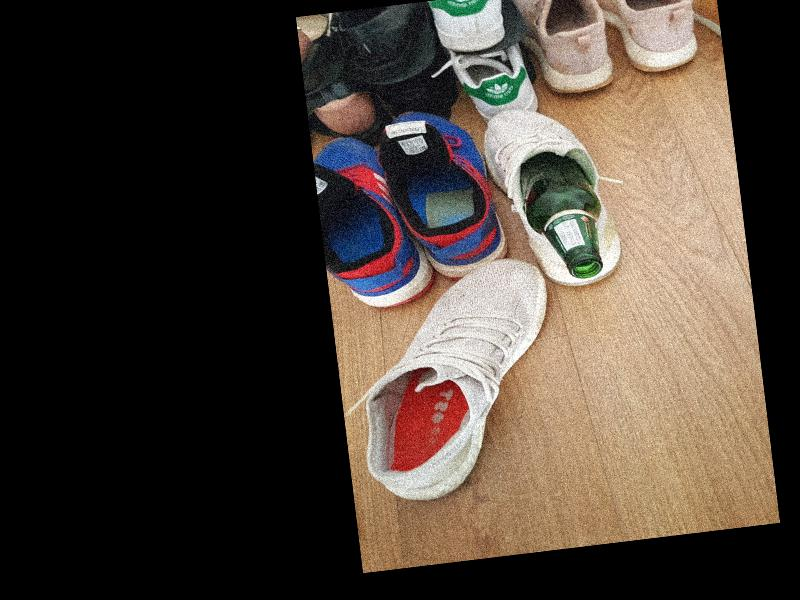Beer: (515, 147, 609, 285)
